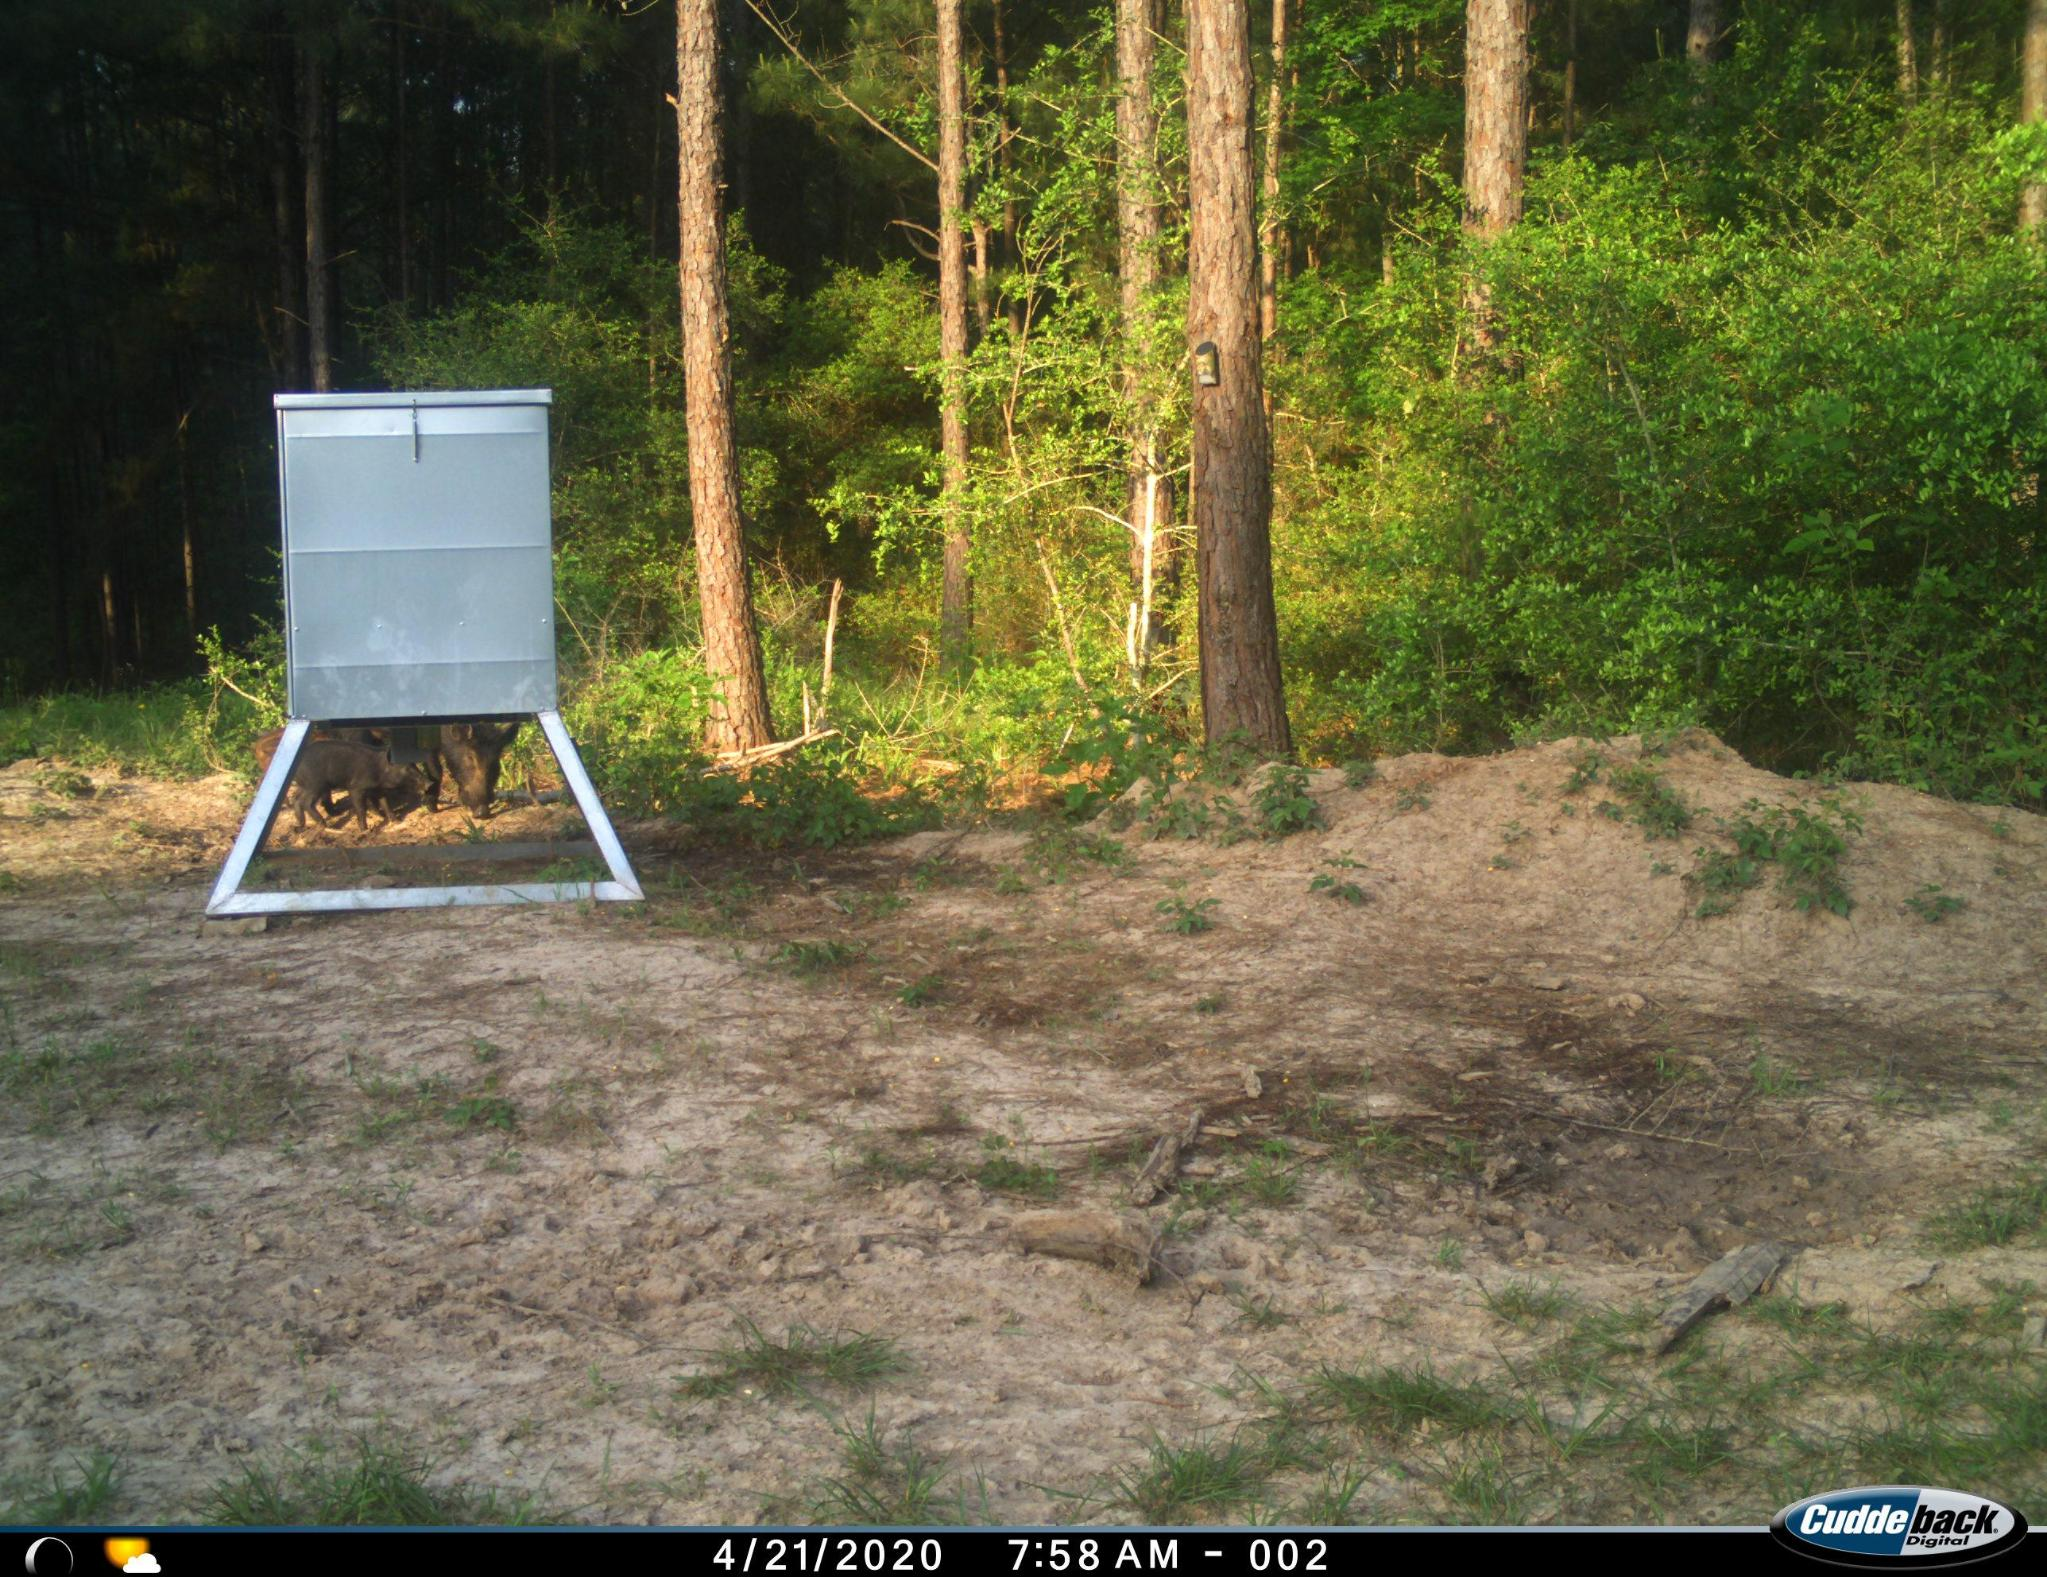Hog: (283, 735, 424, 837), (432, 717, 522, 823)
